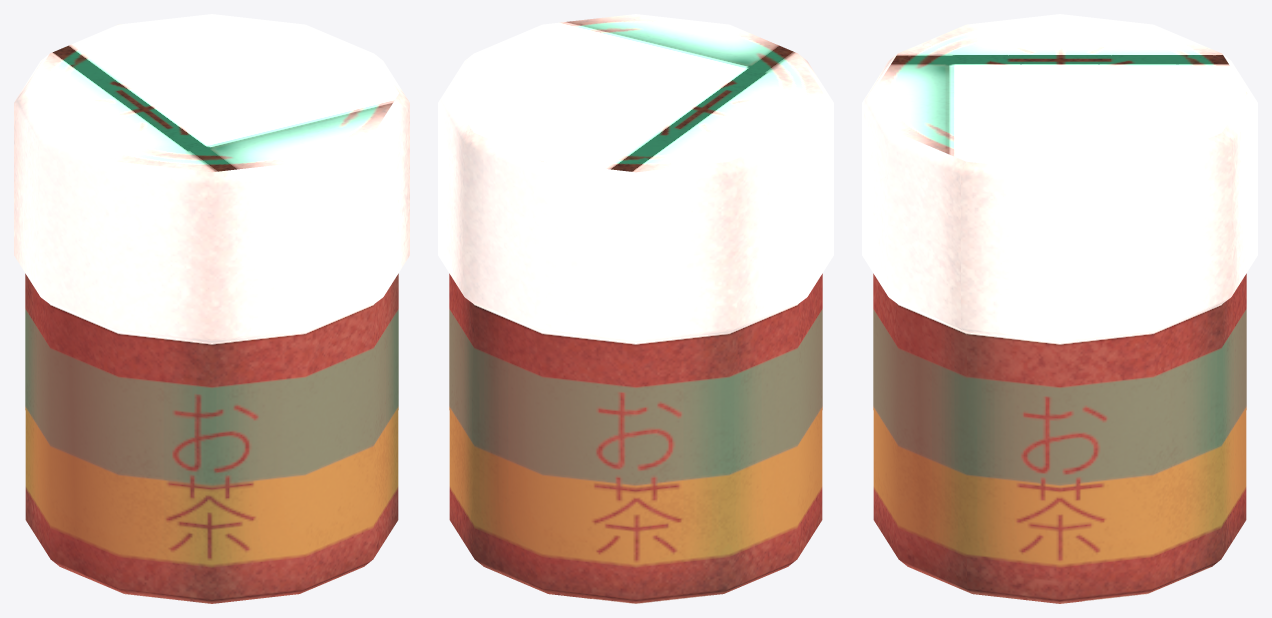
The model's file is SM_TeaContainer.fbx.
3 renders of one model, left to right at view 1: azimuth 30°, elevation 25°; view 2: azimuth 150°, elevation 25°; view 3: azimuth 270°, elevation 25°, orthographic.
Visible parts, largest first — view 1: SM_TeaContainer_LOD0; view 2: SM_TeaContainer_LOD0; view 3: SM_TeaContainer_LOD0.
Boxes of the visible parts, x1=… form: SM_TeaContainer_LOD0: x1=14, y1=14, x2=409, y2=603; SM_TeaContainer_LOD0: x1=438, y1=14, x2=833, y2=603; SM_TeaContainer_LOD0: x1=862, y1=14, x2=1257, y2=603.
Size of the model in its own units: 7.44 by 7.44 by 9.05.
